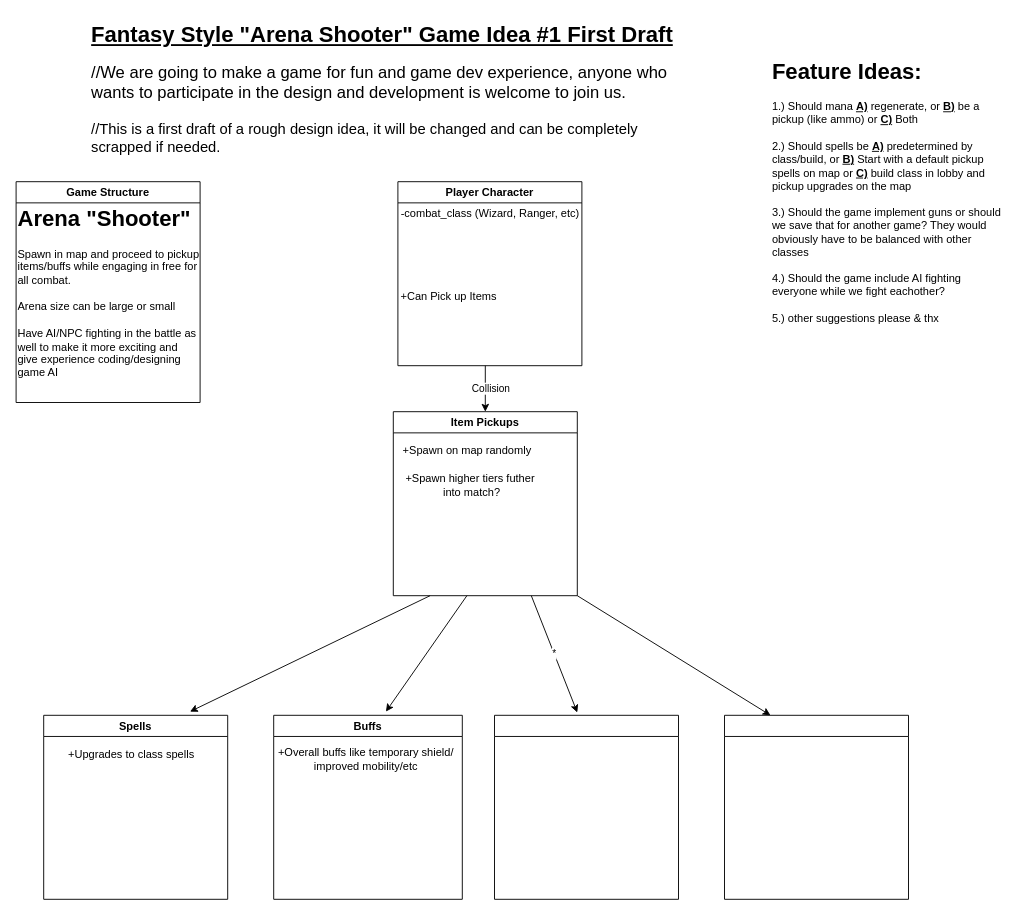
This 1026x915 diagram has some shape labels left out. The shapes that lost their labels are listed below. From the top down, each one's centre as x and y in pixels, then its label:
(x=586, y=806): Arrows/ammo
(x=816, y=806): Melee weapons
